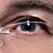eye: (21, 20, 36, 32)
